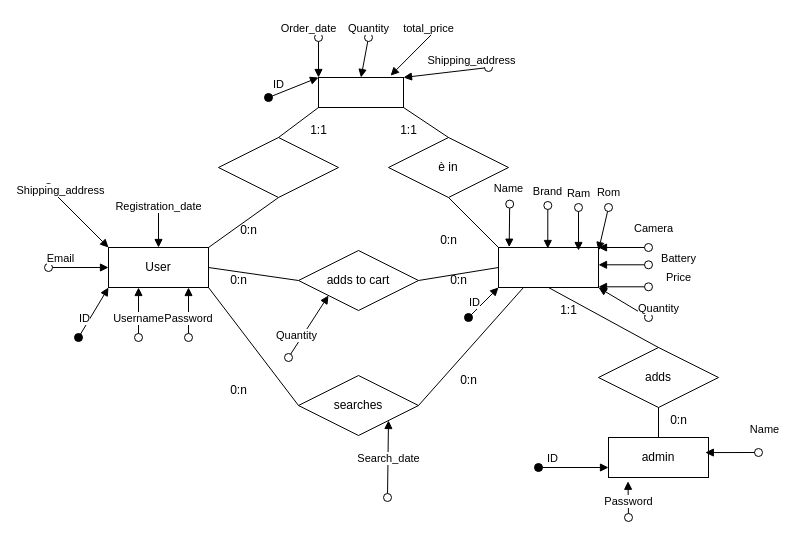
Some shapes in this 797 by 546 pixel diagram are drawn without their labels. Here are the shapes that lost their labels. From the top down, the box of each, then its label:
(318, 76, 404, 108): Orders
(218, 136, 338, 198): esegue
(498, 246, 598, 288): Product
